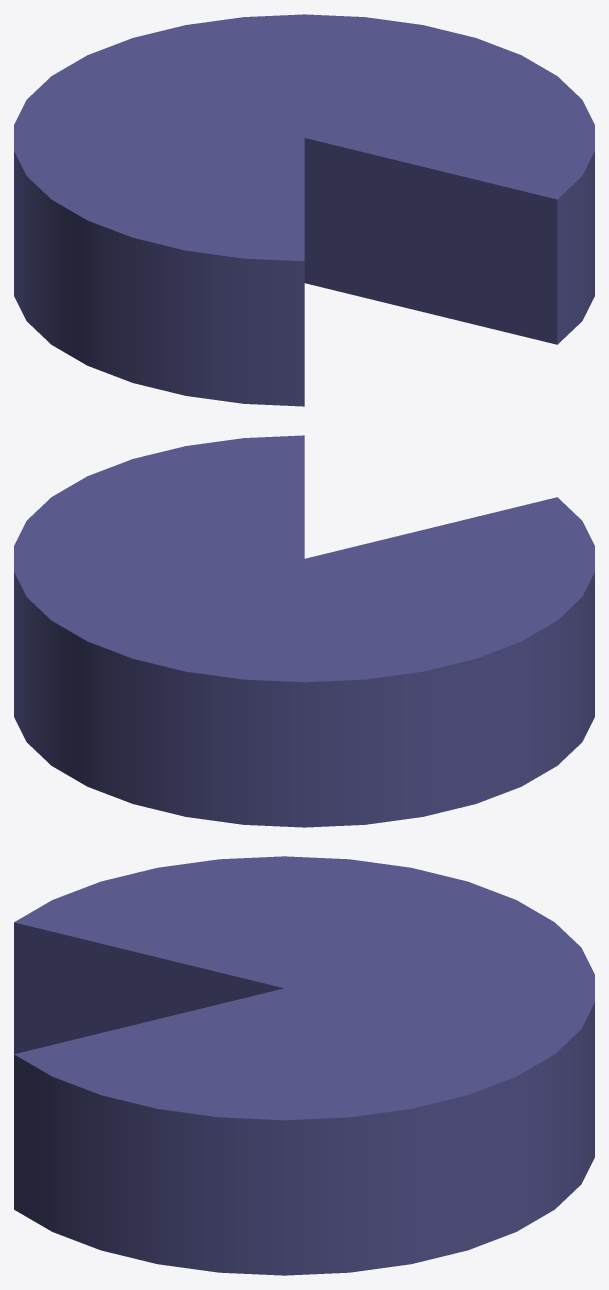
The model's file is HelixJumpV2.fbx.
3 renders of one model, top to bottom at view 1: azimuth 30°, elevation 25°; view 2: azimuth 150°, elevation 25°; view 3: azimuth 270°, elevation 25°, orthographic. The views are drawn at different scales.
Parts seen in each view (by area): view 1: v2; view 2: v2; view 3: v2.
Boxes of the visible parts, x1,y1,x2,y2 form: v2: (14, 14, 594, 406); v2: (14, 435, 594, 827); v2: (14, 856, 594, 1275).
Bounding box in the file's own units: 532 × 146 × 495.
